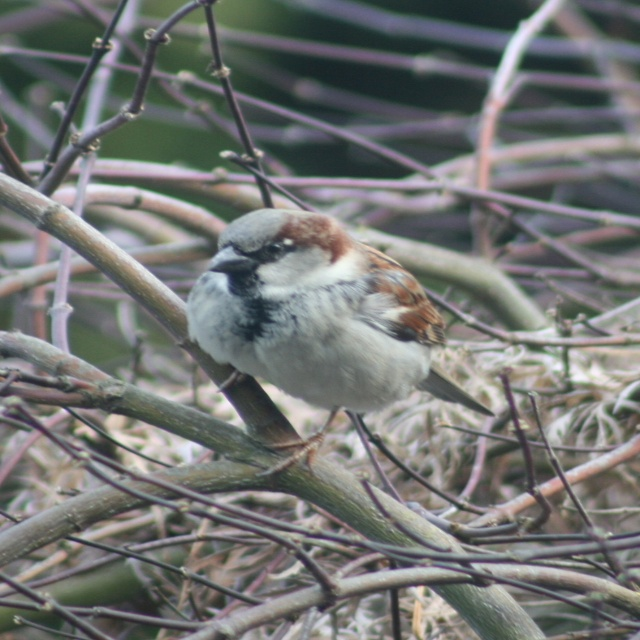Sparrow: (177, 205, 497, 479)
